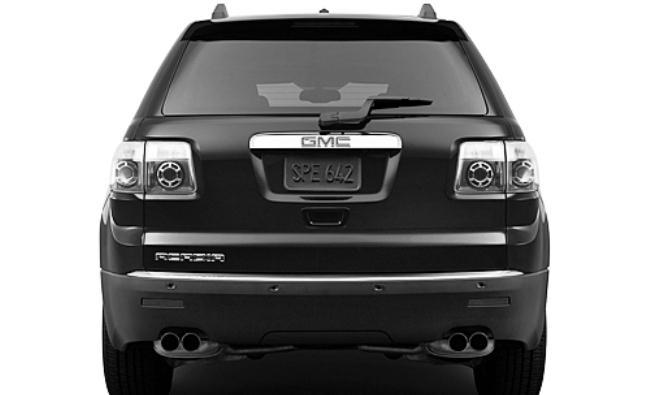car: (82, 1, 570, 384)
